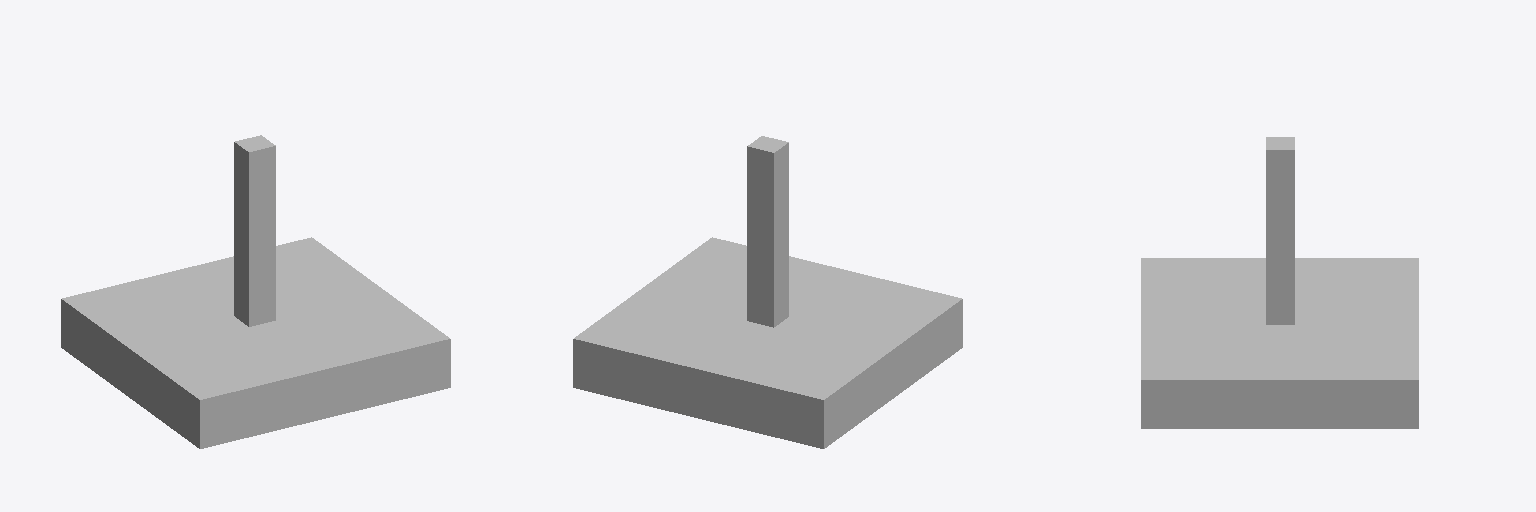
File: selfShadowTest.obj
3 views of the same model, side by side, from view 1: azimuth 30°, elevation 25°; view 2: azimuth 150°, elevation 25°; view 3: azimuth 270°, elevation 25° (orthographic).
Visible parts, largest first — view 1: Cube; view 2: Cube; view 3: Cube.
Boxes of the visible parts, box(x1,y1,x2,y2) form: Cube: box(61, 135, 450, 448); Cube: box(573, 136, 962, 448); Cube: box(1141, 137, 1418, 428).
Size of the model in its own units: 4.8 by 4.1 by 4.6.